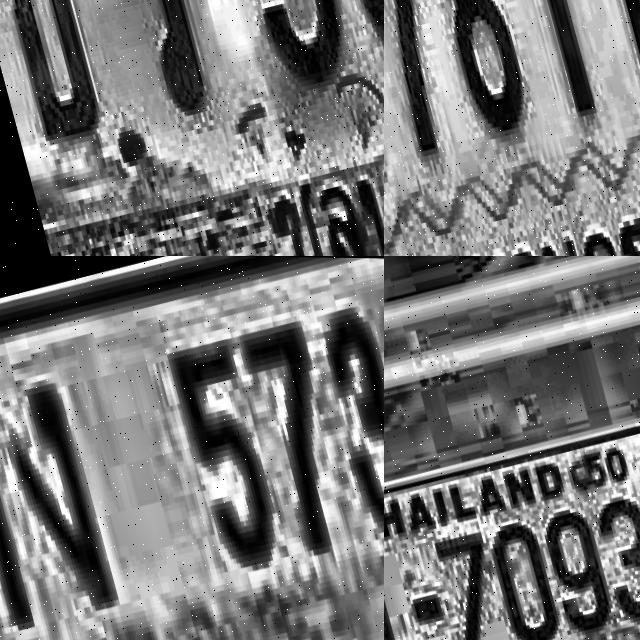license-plate: (0, 256, 384, 640), (0, 0, 384, 256), (384, 0, 640, 256), (384, 404, 640, 640)
